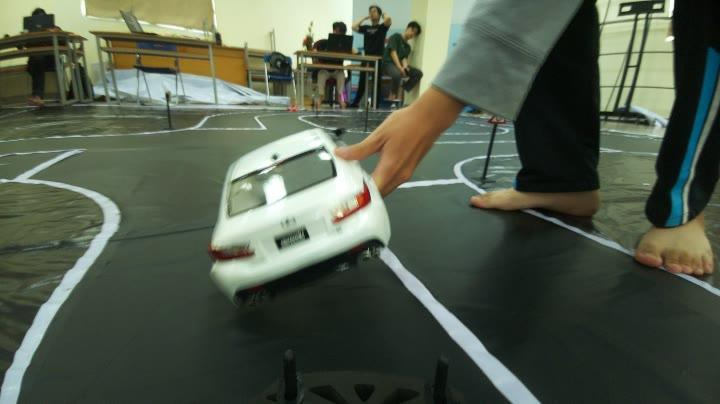car: (207, 132, 397, 290)
